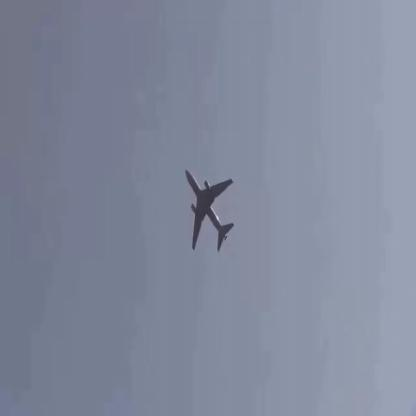CIV_Plane: (185, 170, 235, 252)
